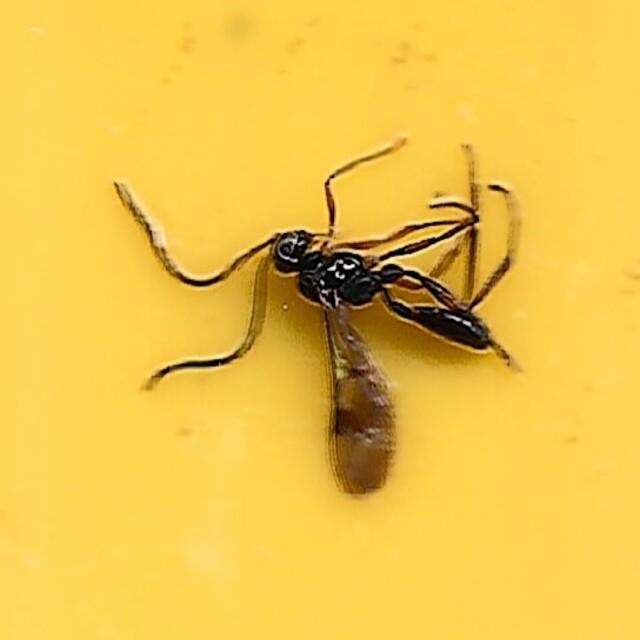Hymenoptera: (118, 140, 522, 500)
